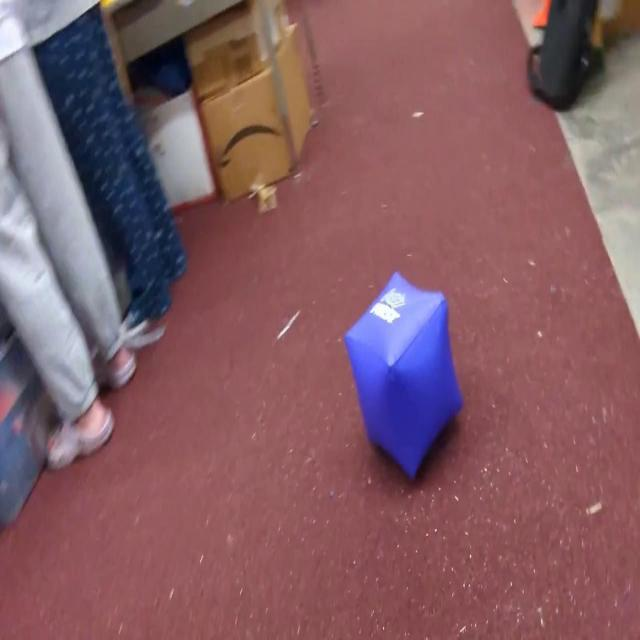frc_cube: (343, 272, 463, 480)
